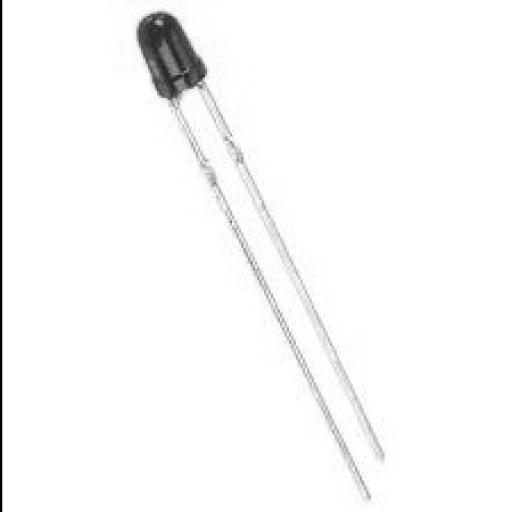LED: (115, 4, 273, 168)
